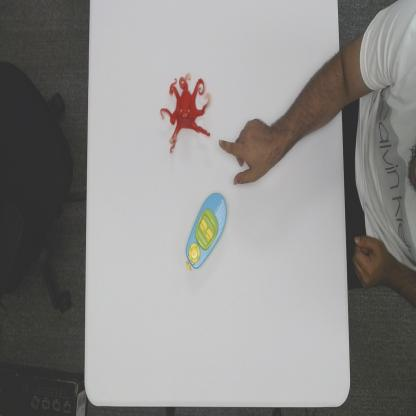Arm: (282, 40, 344, 158)
Boat: (185, 191, 227, 270)
Hand: (218, 116, 282, 188)
Octopus: (160, 71, 212, 155)
